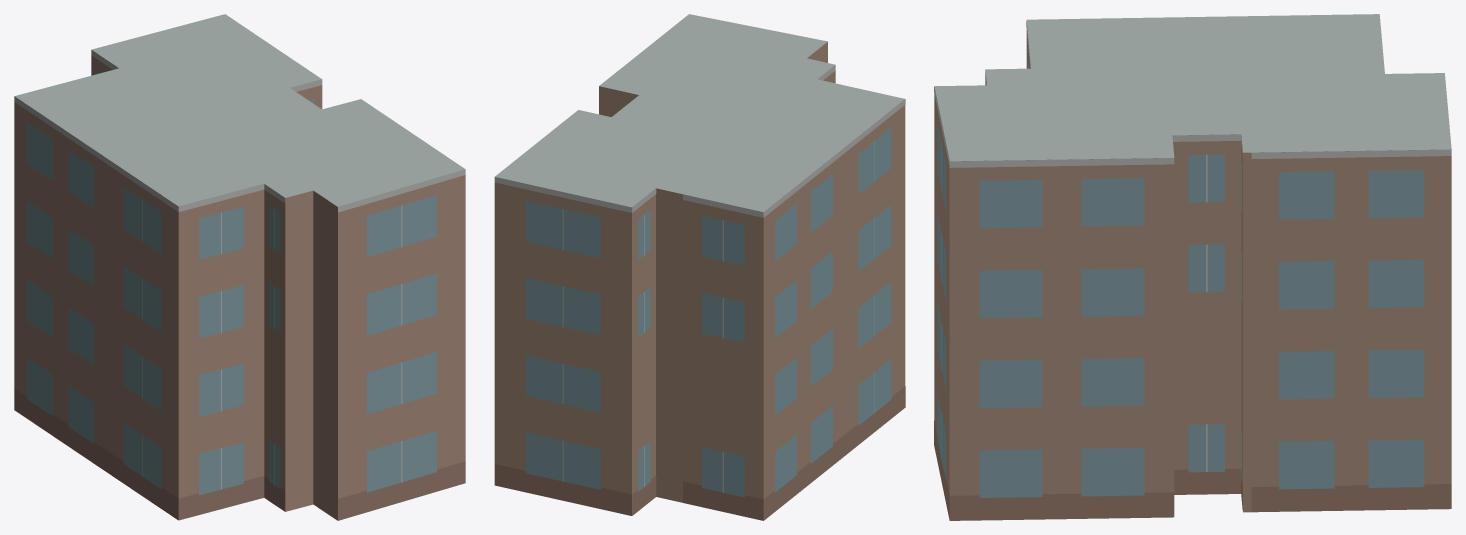
File: survey-upis-32897174.glb
3 renders of one model, left to right at view 1: azimuth 30°, elevation 25°; view 2: azimuth 150°, elevation 25°; view 3: azimuth 270°, elevation 25°, orthographic. The views are drawn at different scales.
Visible parts, largest first — view 1: survey-upis-32897174.tmp; view 2: survey-upis-32897174.tmp; view 3: survey-upis-32897174.tmp.
Boxes of the visible parts, x1=… form: survey-upis-32897174.tmp: x1=14, y1=14, x2=465, y2=520; survey-upis-32897174.tmp: x1=494, y1=14, x2=905, y2=520; survey-upis-32897174.tmp: x1=934, y1=14, x2=1451, y2=520.
Bounding box in the file's own units: 11.77 × 13.38 × 17.46.
